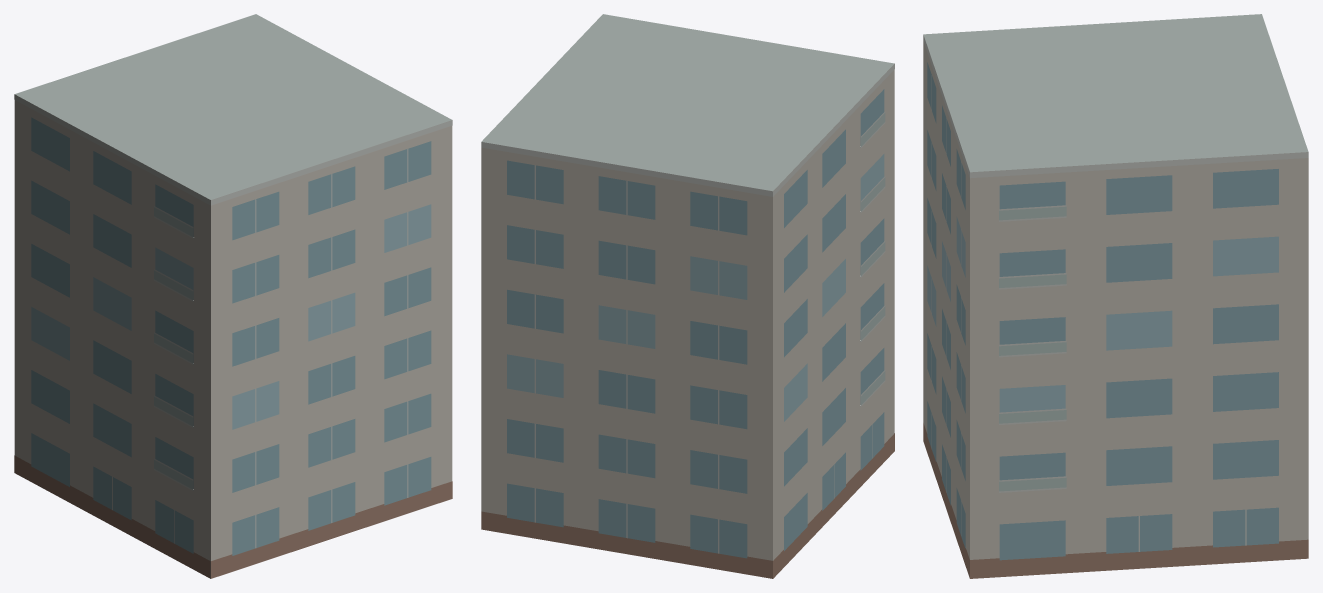
Rendered from survey-upis-33020231.glb.
3 views of the same model, side by side, from view 1: azimuth 30°, elevation 25°; view 2: azimuth 150°, elevation 25°; view 3: azimuth 270°, elevation 25° (orthographic). The views are drawn at different scales.
Parts seen in each view (by area): view 1: survey-upis-33020231.tmp; view 2: survey-upis-33020231.tmp; view 3: survey-upis-33020231.tmp.
Boxes of the visible parts, x1,y1,x2,y2 form: survey-upis-33020231.tmp: (14, 14, 452, 578); survey-upis-33020231.tmp: (481, 14, 894, 578); survey-upis-33020231.tmp: (923, 14, 1308, 578).
Size of the model in its own units: 13.95 by 16.7 by 14.35.
